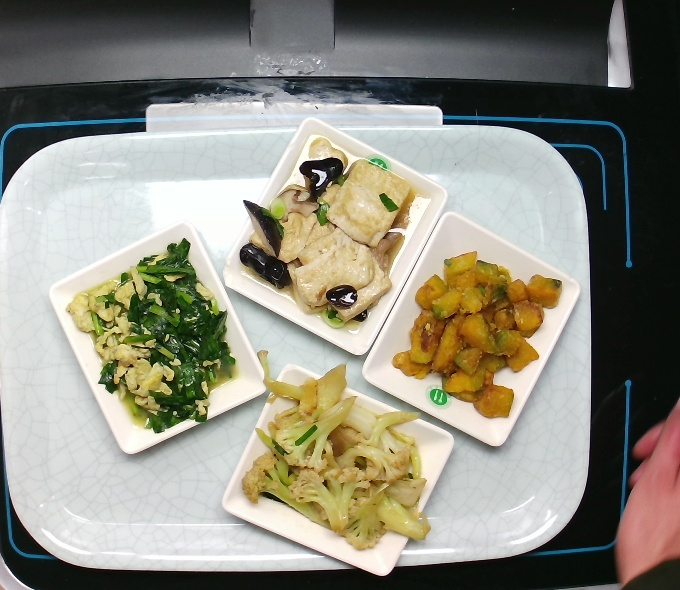wcq-DanHuangNanGua: (384, 247, 569, 426)
wcq-JiaChangDouFu: (238, 139, 425, 322)
wcq-JiuCaiJiDan: (59, 236, 243, 435)
wcq-QiuCai: (242, 355, 433, 555)
